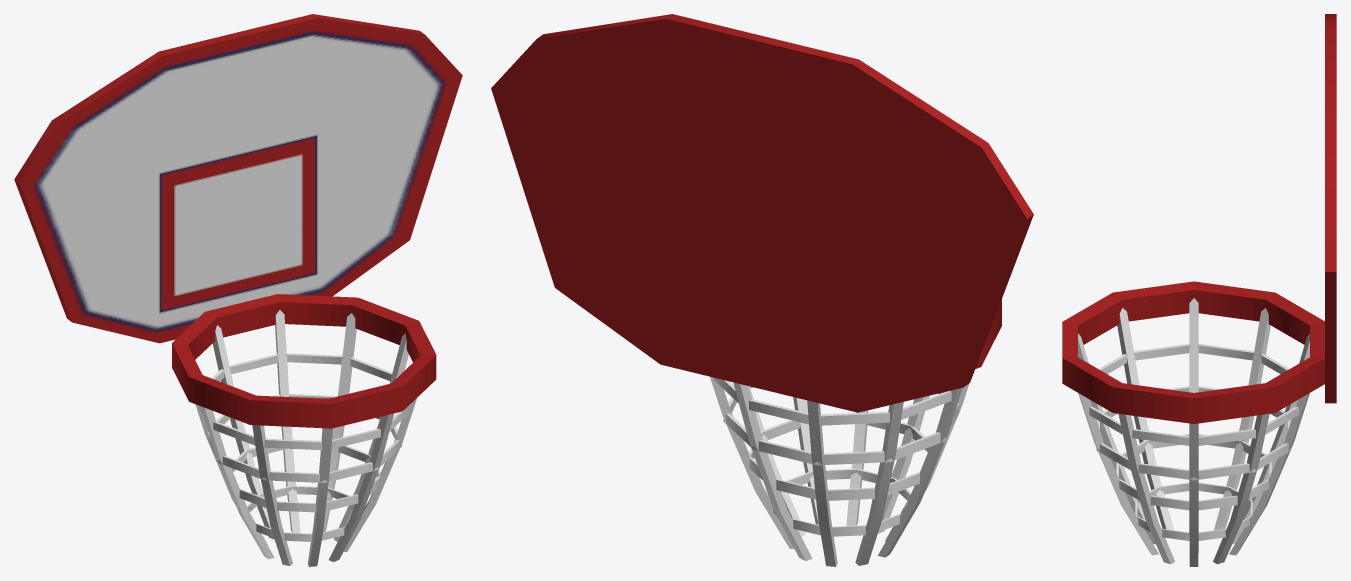
File: 69_prop_basketball stand.FBX
3 renders of one model, left to right at view 1: azimuth 30°, elevation 25°; view 2: azimuth 150°, elevation 25°; view 3: azimuth 270°, elevation 25°, orthographic. The views are drawn at different scales.
Parts seen in each view (by area): view 1: prop_basketball stand; view 2: prop_basketball stand; view 3: prop_basketball stand.
Boxes of the visible parts, x1,y1,x2,y2 form: prop_basketball stand: (14,14,462,566); prop_basketball stand: (491,14,1033,566); prop_basketball stand: (1062,14,1336,566).
Size of the model in its own units: 73.35 by 73.67 by 37.74.
